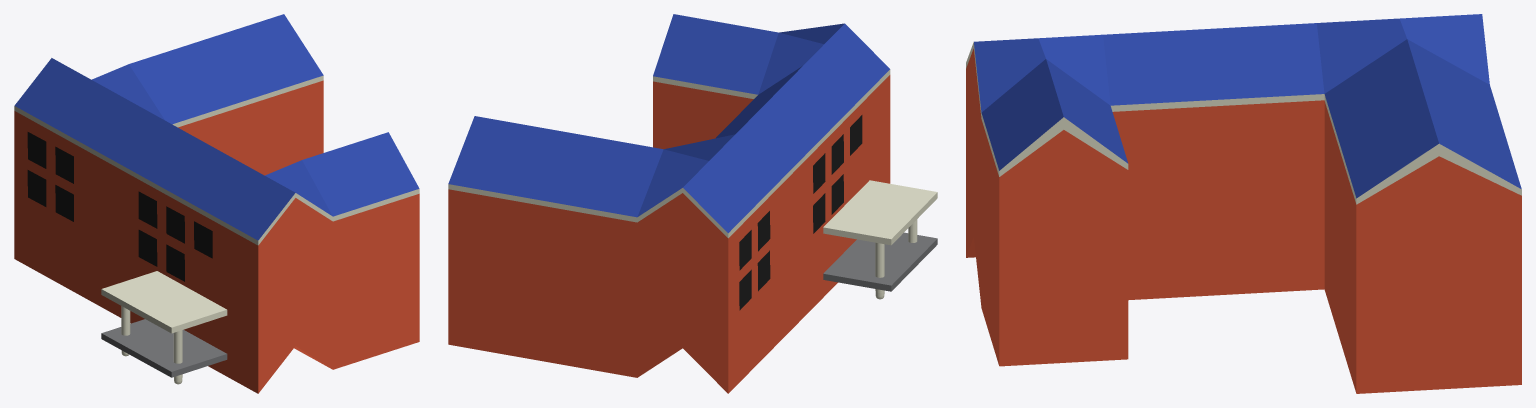
File: Bauer Hall.fbx
3 renders of one model, left to right at view 1: azimuth 30°, elevation 25°; view 2: azimuth 150°, elevation 25°; view 3: azimuth 270°, elevation 25°, orthographic. The views are drawn at different scales.
Visible parts, largest first — view 1: Bauer Hall; view 2: Bauer Hall; view 3: Bauer Hall.
Boxes of the visible parts, box(x1,y1,x2,y2) form: Bauer Hall: box(14, 14, 419, 393); Bauer Hall: box(448, 14, 937, 393); Bauer Hall: box(966, 14, 1521, 393).
Bounding box in the file's own units: 228 × 141 × 290.
